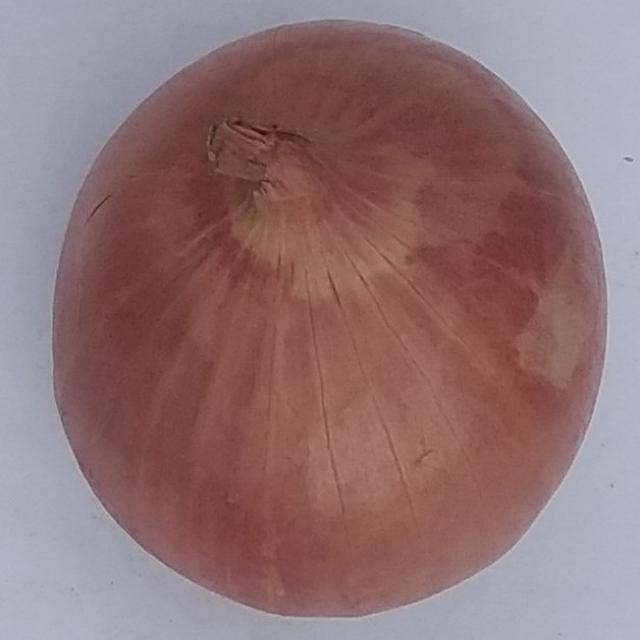onion: (48, 16, 607, 618)
